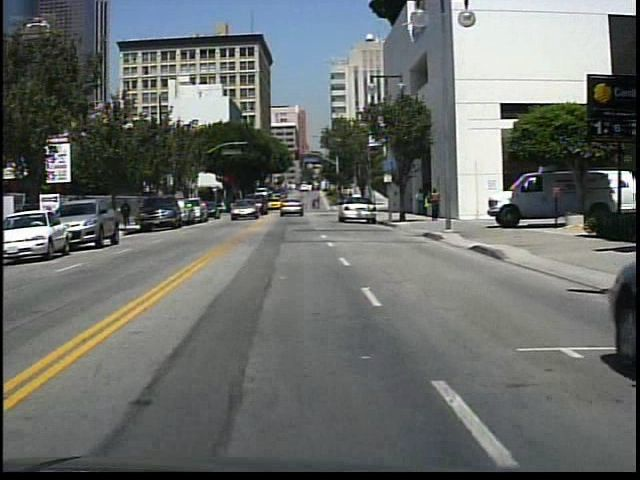person: (120, 198, 134, 228), (414, 185, 426, 217), (429, 188, 440, 220), (424, 189, 433, 219), (220, 198, 231, 217)
